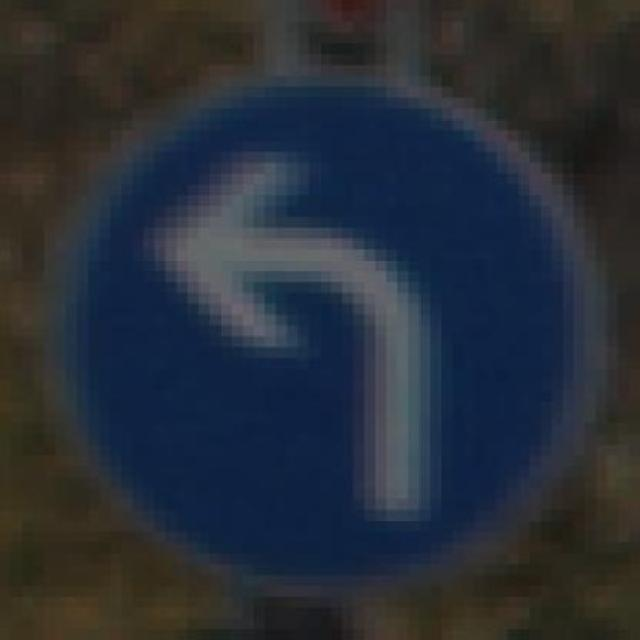Turn left ahead: (44, 64, 607, 576)
